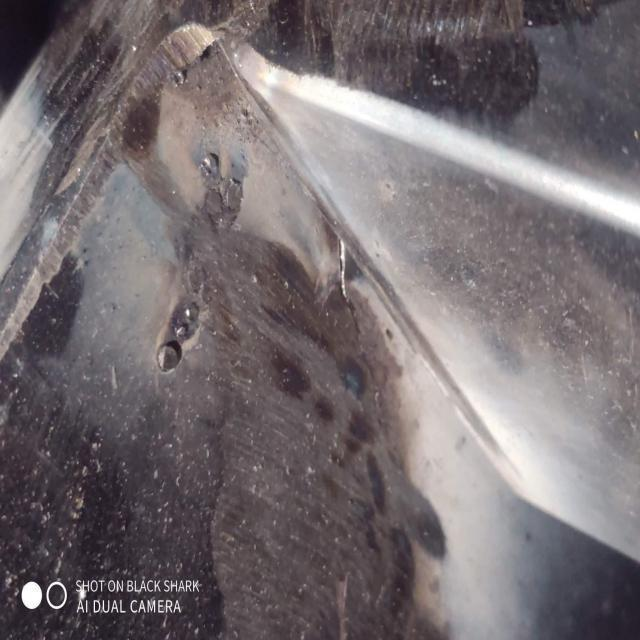Crack: (337, 233, 385, 437)
